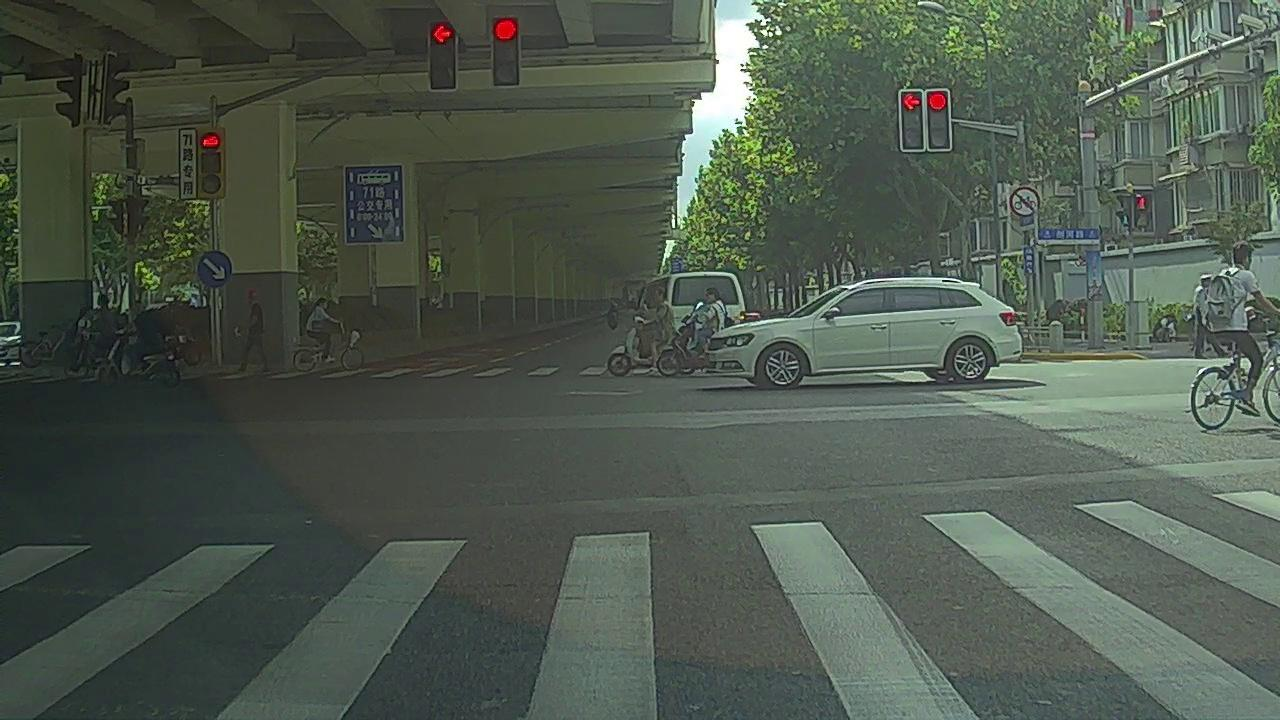traffic_light: (492, 17, 517, 85), (429, 22, 454, 89), (927, 91, 950, 149), (901, 91, 923, 150)
